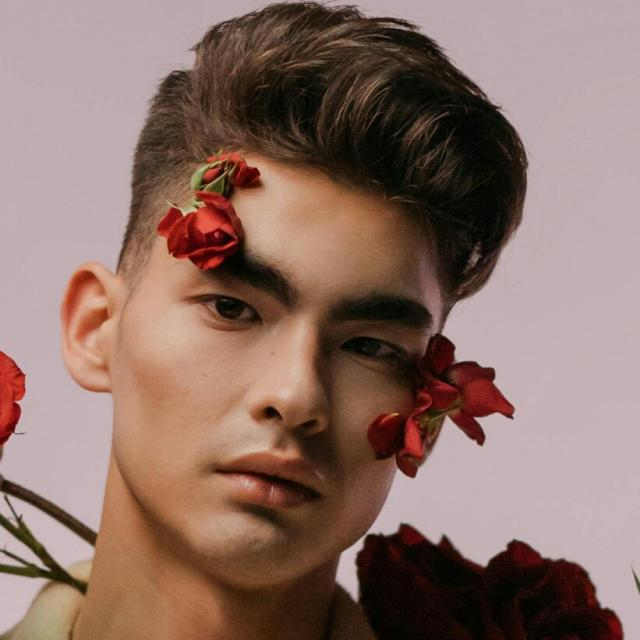front: (144, 226, 431, 566)
